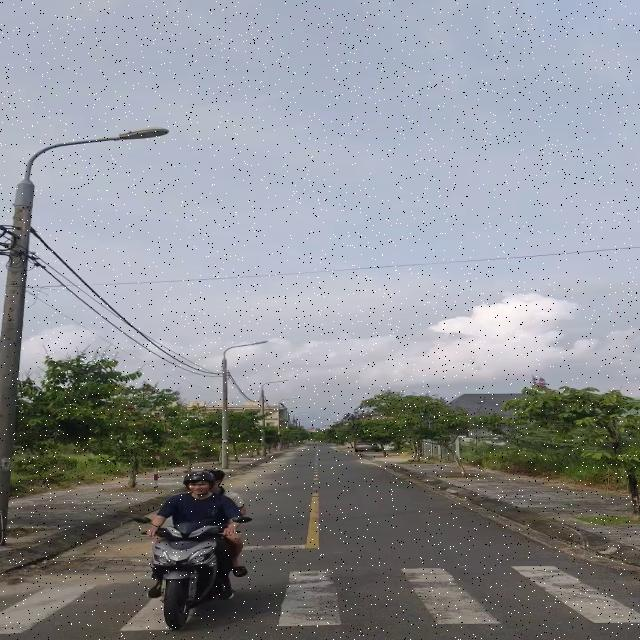helmet: (183, 470, 217, 502)
